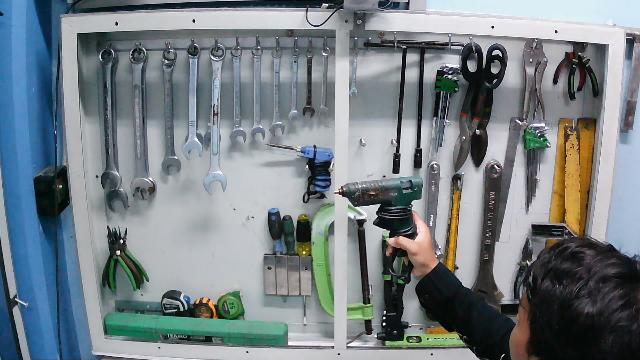gun_lem: (332, 175, 427, 303)
